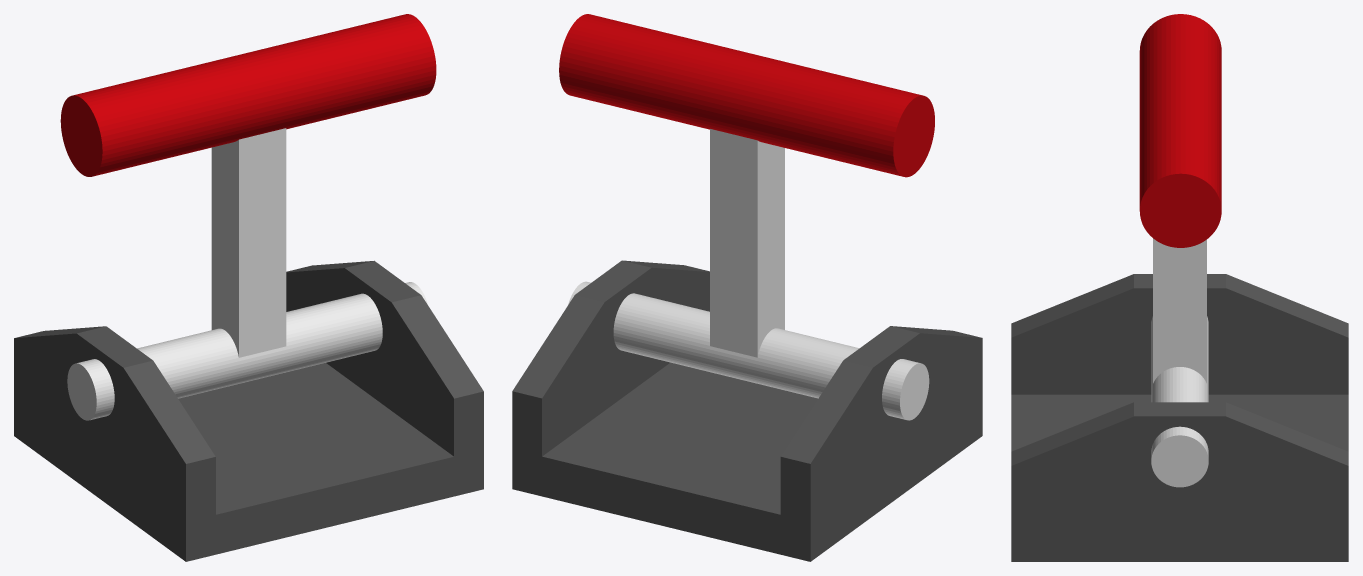
File: switch.fbx
3 renders of one model, left to right at view 1: azimuth 30°, elevation 25°; view 2: azimuth 150°, elevation 25°; view 3: azimuth 270°, elevation 25°, orthographic. The views are drawn at different scales.
Parts seen in each view (by area): view 1: 0_base, 1_Handle, Cube, 0_Handle Base; view 2: 0_base, 1_Handle, Cube, 0_Handle Base; view 3: 0_base, 1_Handle, Cube, 0_Handle Base.
Part boxes in pixels (left/top/right/bottom): 0_base: left=14, top=260, right=483, bottom=561; 1_Handle: left=60, top=14, right=436, bottom=176; Cube: left=211, top=128, right=286, bottom=357; 0_Handle Base: left=67, top=282, right=428, bottom=420; 0_base: left=512, top=260, right=982, bottom=561; 1_Handle: left=559, top=14, right=934, bottom=177; Cube: left=710, top=129, right=784, bottom=357; 0_Handle Base: left=568, top=281, right=929, bottom=420; 0_base: left=1011, top=274, right=1348, bottom=561; 1_Handle: left=1139, top=14, right=1221, bottom=247; Cube: left=1153, top=238, right=1206, bottom=383; 0_Handle Base: left=1151, top=316, right=1208, bottom=487.
Bounding box in the file's own units: 100 × 116 × 89.23.
